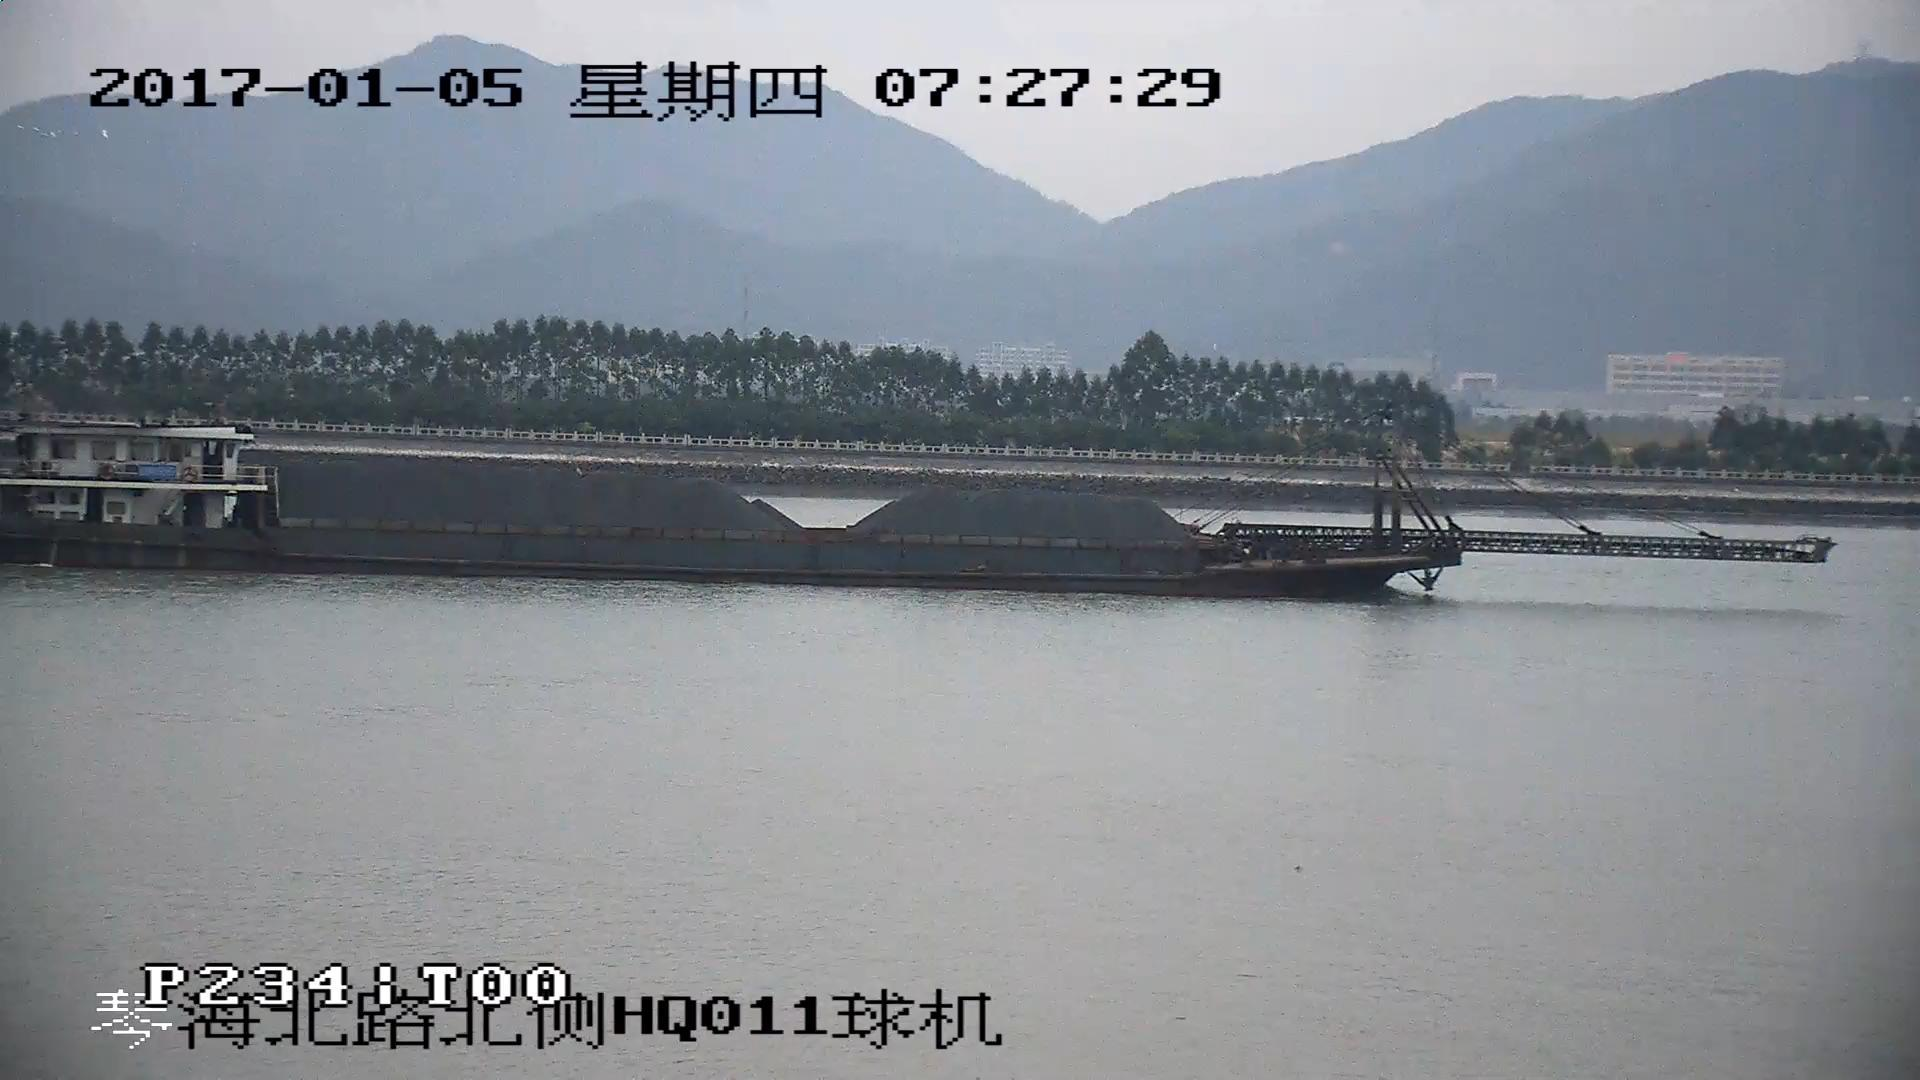Ship: (3, 418, 1829, 595)
